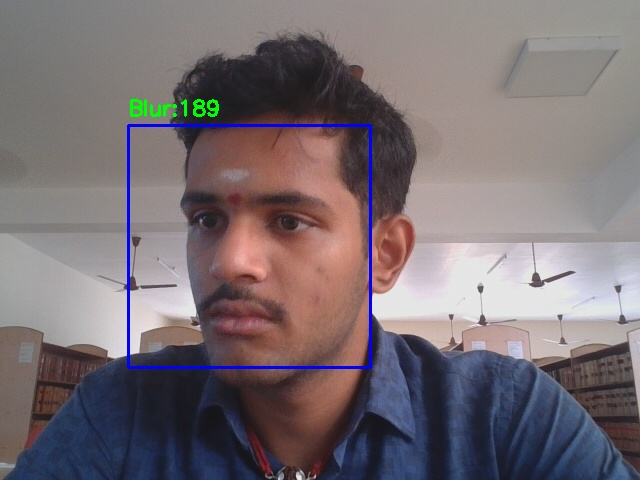real: (128, 125, 370, 367)
